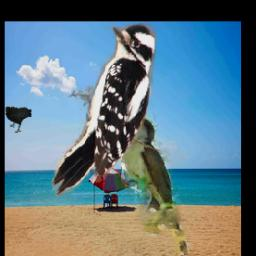Crow: (6, 107, 31, 134)
Cuckoo: (121, 110, 189, 256)
Woodpecker: (52, 23, 157, 198)
